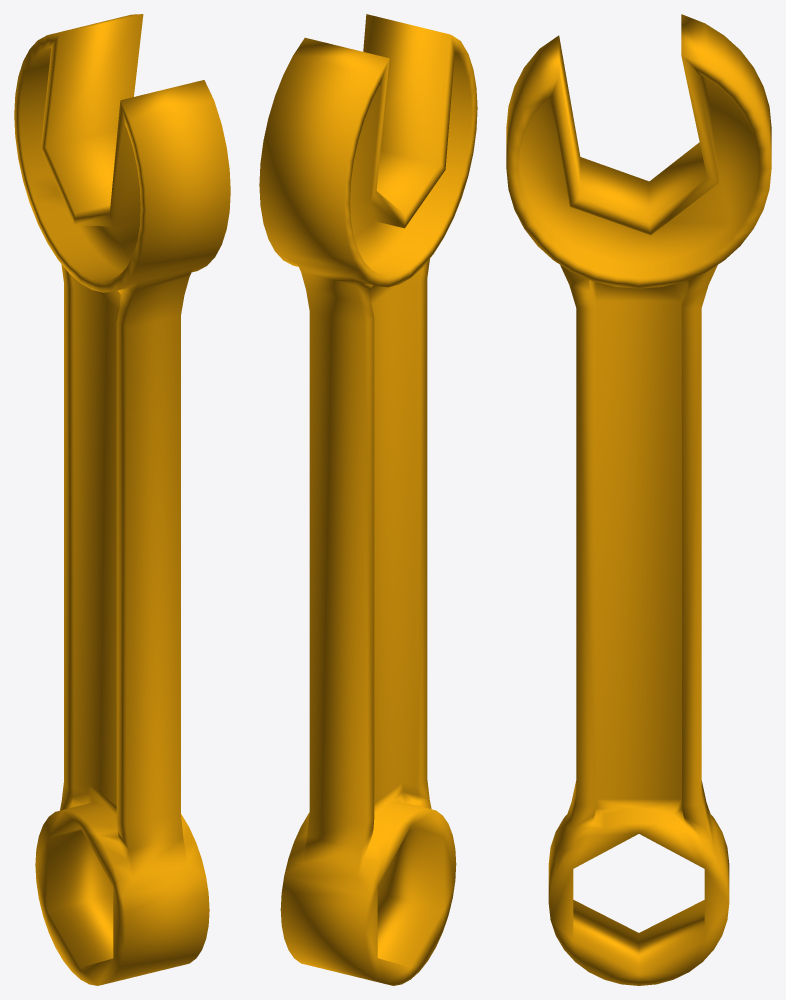
Rendered from PlasticWrench.glb.
3 renders of one model, left to right at view 1: azimuth 30°, elevation 25°; view 2: azimuth 150°, elevation 25°; view 3: azimuth 270°, elevation 25°, orthographic.
Parts seen in each view (by area): view 1: Spanner_low; view 2: Spanner_low; view 3: Spanner_low.
Part boxes in pixels (x1,y1,x2,y2): Spanner_low: (14, 14, 230, 985); Spanner_low: (259, 14, 477, 985); Spanner_low: (506, 14, 771, 985).
Size of the model in its own units: 0.0379 by 0.4 by 0.1033.
1 material, 1 textured.
